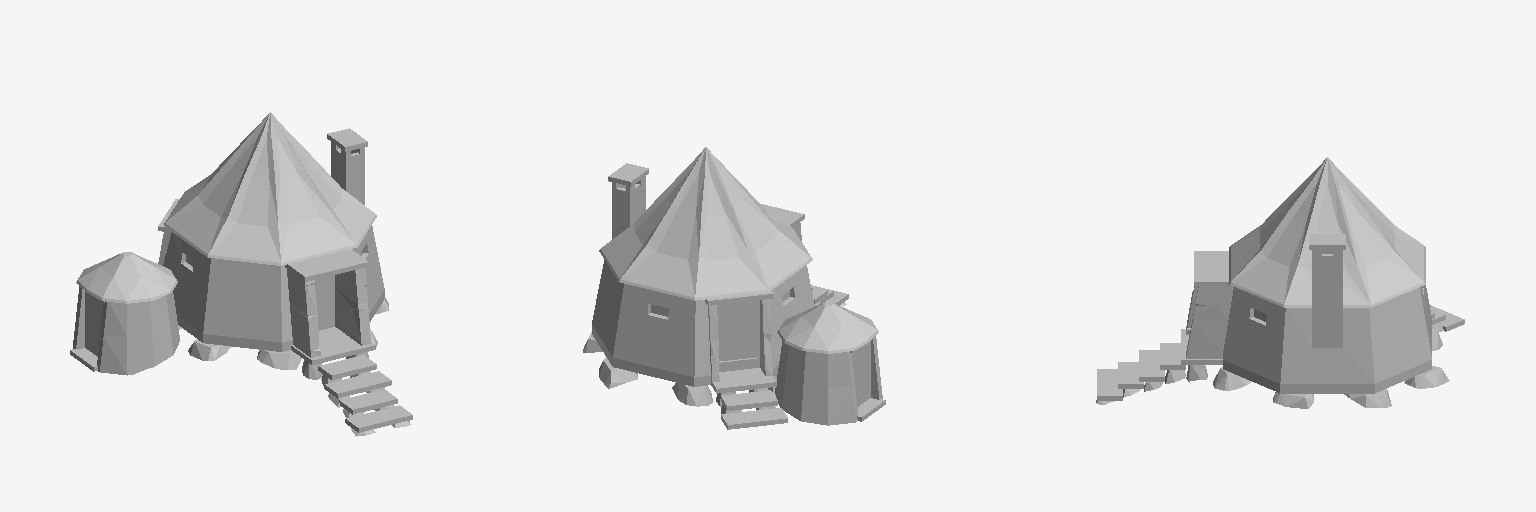
Rendered from ARCHITECTURE_Hagrids Hut.obj.
3 views of the same model, side by side, from view 1: azimuth 30°, elevation 25°; view 2: azimuth 150°, elevation 25°; view 3: azimuth 270°, elevation 25° (orthographic).
Size of the model in its own units: 13.25 by 10.63 by 15.14.